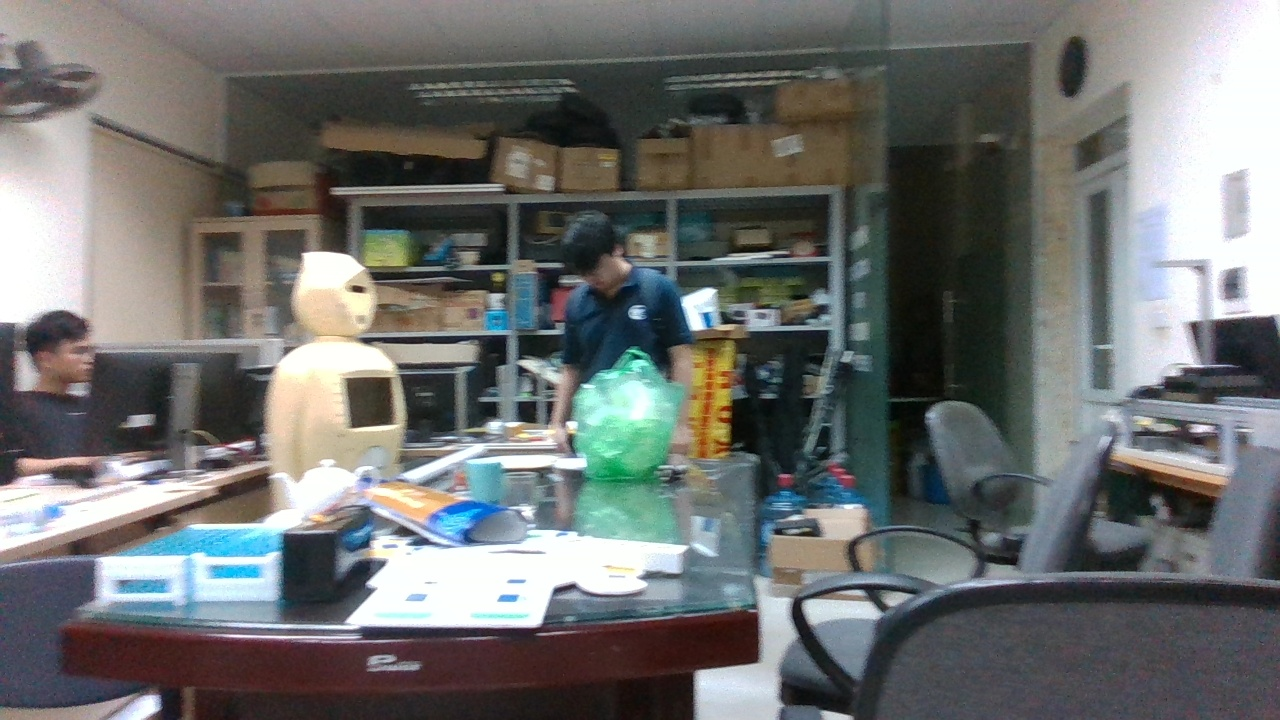person: (549, 228, 694, 468), (7, 312, 162, 470)
